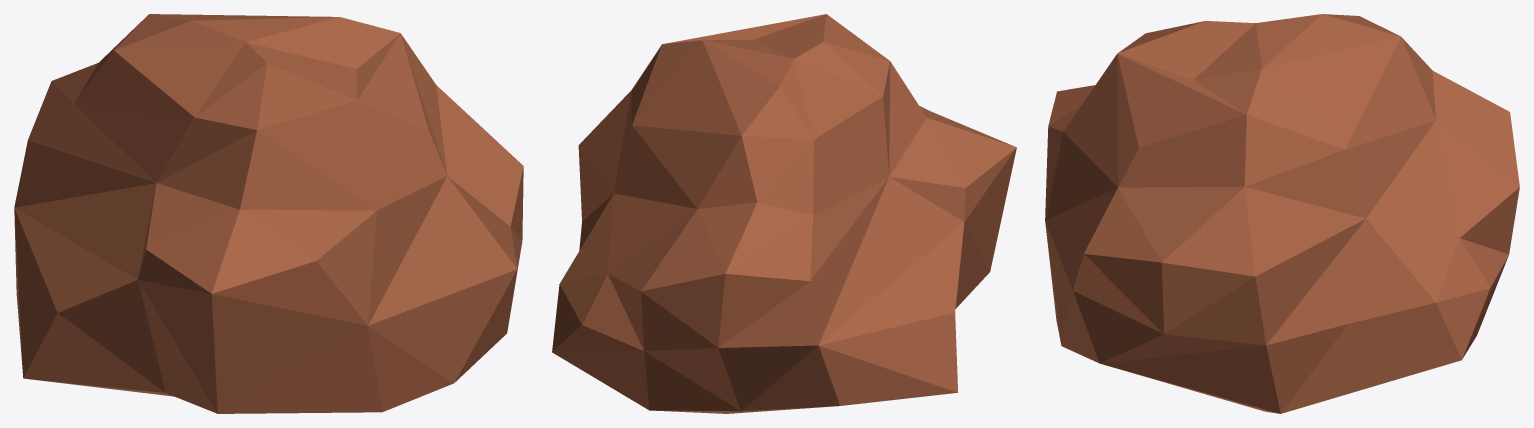
Rendered from medium_rock4.glb.
3 renders of one model, left to right at view 1: azimuth 30°, elevation 25°; view 2: azimuth 150°, elevation 25°; view 3: azimuth 270°, elevation 25°, orthographic. The views are drawn at different scales.
Visible parts, largest first — view 1: medium_rock4; view 2: medium_rock4; view 3: medium_rock4.
Part boxes in pixels (left/top/right/bottom): medium_rock4: left=14, top=14, right=523, bottom=413; medium_rock4: left=552, top=14, right=1016, bottom=413; medium_rock4: left=1045, top=14, right=1519, bottom=413.
Bounding box in the file's own units: 3.22 × 2.51 × 3.21.
